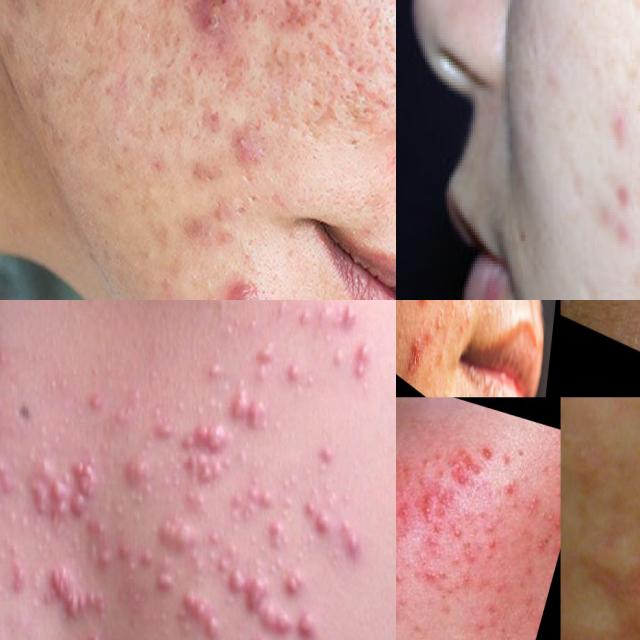acne_scars: (447, 465, 480, 490)
comedone: (188, 387, 228, 427), (2, 500, 25, 546), (419, 562, 456, 588), (527, 533, 550, 571), (518, 491, 546, 518), (459, 545, 482, 571), (420, 456, 438, 477), (538, 508, 554, 530), (496, 629, 515, 640)
crystanlline: (224, 567, 294, 640), (44, 562, 110, 620), (179, 422, 235, 484), (191, 0, 243, 49), (180, 587, 228, 640), (155, 505, 201, 558), (68, 460, 98, 523), (218, 281, 284, 300), (288, 564, 304, 601)
milium: (432, 378, 442, 397)
papule: (482, 535, 503, 558)
pustule: (222, 119, 262, 158), (416, 503, 437, 528), (480, 445, 500, 465), (446, 525, 466, 544), (552, 514, 560, 540), (418, 300, 430, 311)
syringoma: (560, 300, 594, 321)
